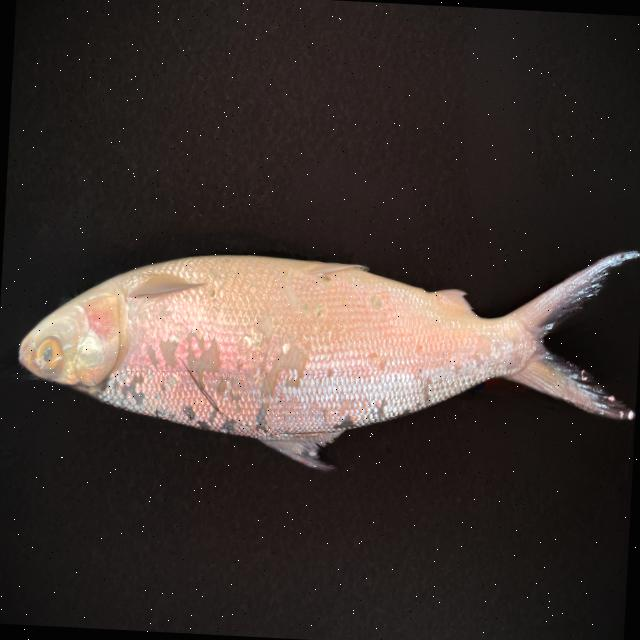1150 g: (13, 219, 640, 487)
